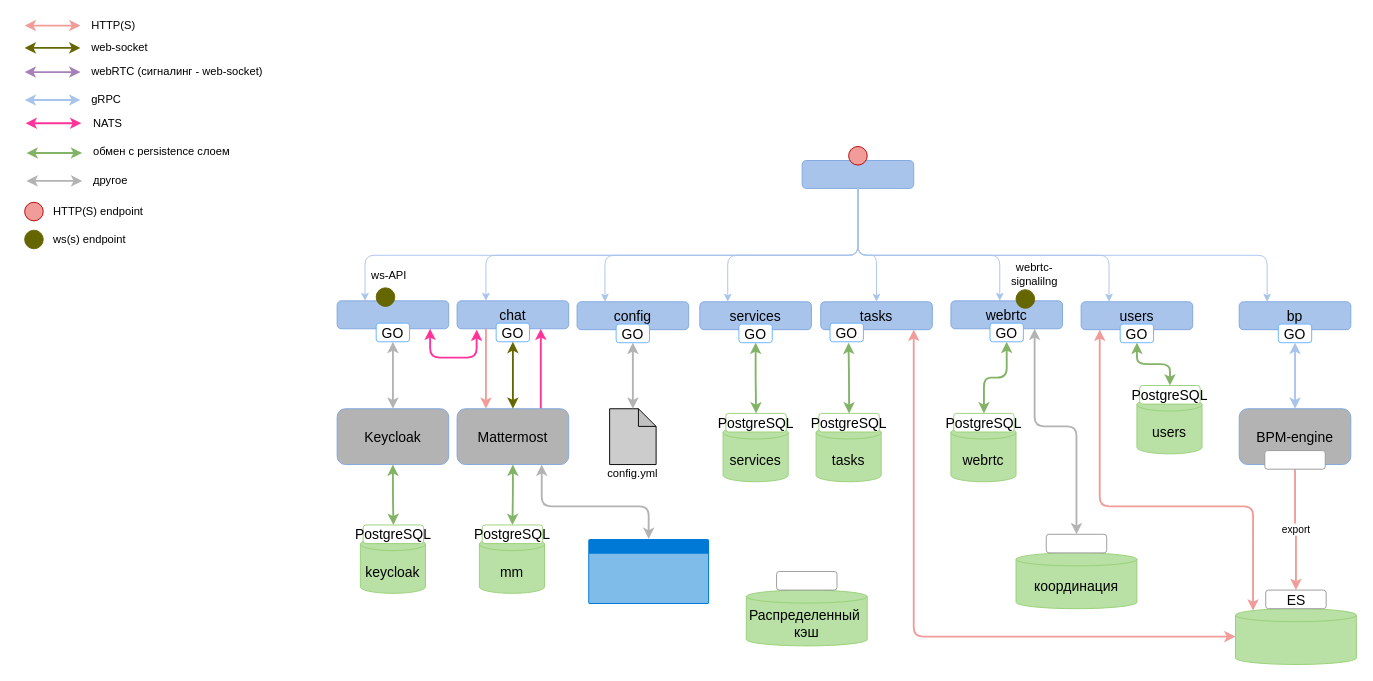
The diagram is 1373 pixels wide and 681 high, and some of its shapes have lost their labels. Here are the shapes that lost their labels. From the top down, the centre of each, then its label:
At point (857, 174): "api".
At point (392, 314): "sessions".
At point (1294, 459): "Zeebe".
At point (1076, 543): "etcd".
At point (648, 571): "Mattermost-web".
At point (806, 580): "Redis".
At point (1295, 636): "index".
